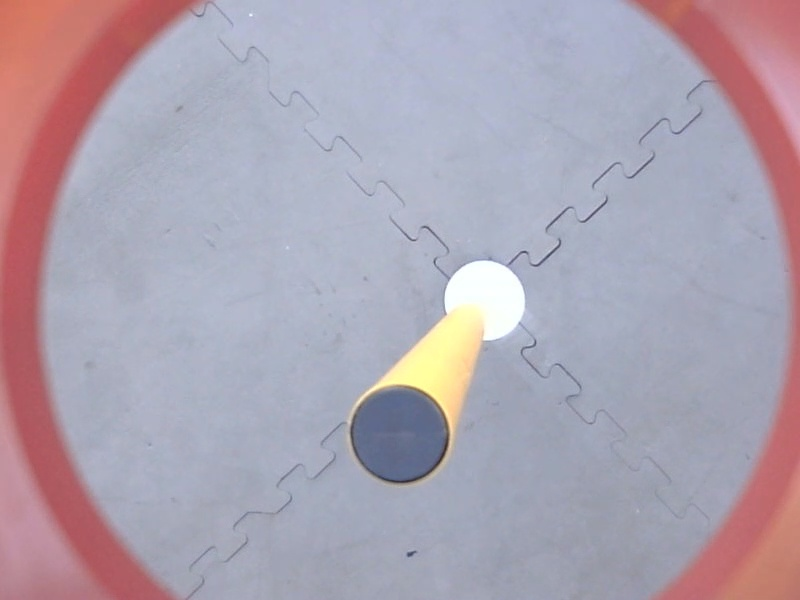tip: (342, 380, 460, 491)
